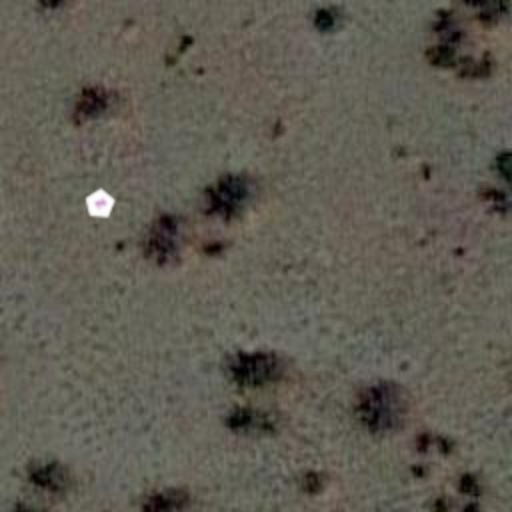pentagon: (78, 182, 122, 226)
